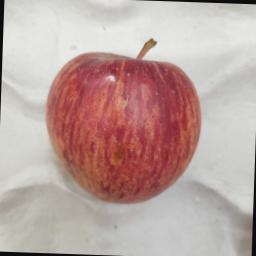Apple Ripe: (38, 30, 211, 210)
